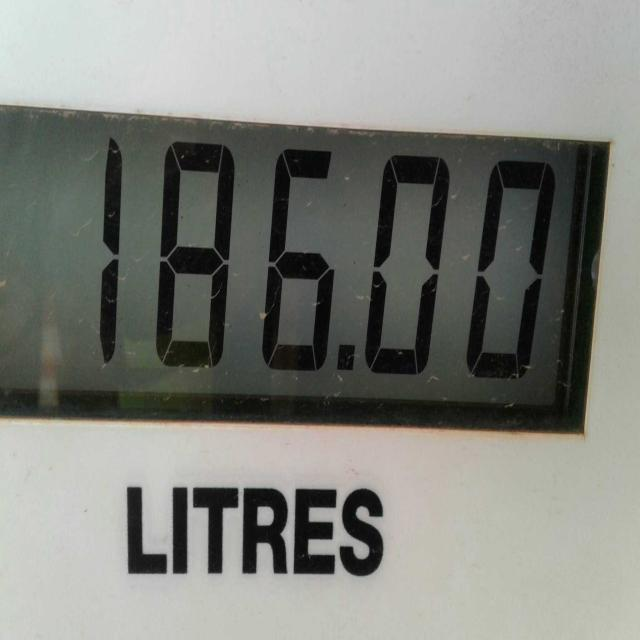.: (334, 310, 362, 400)
0: (362, 160, 450, 372), (470, 154, 554, 373)
1: (98, 135, 129, 372)
6: (270, 146, 337, 362)
8: (156, 145, 234, 373)
